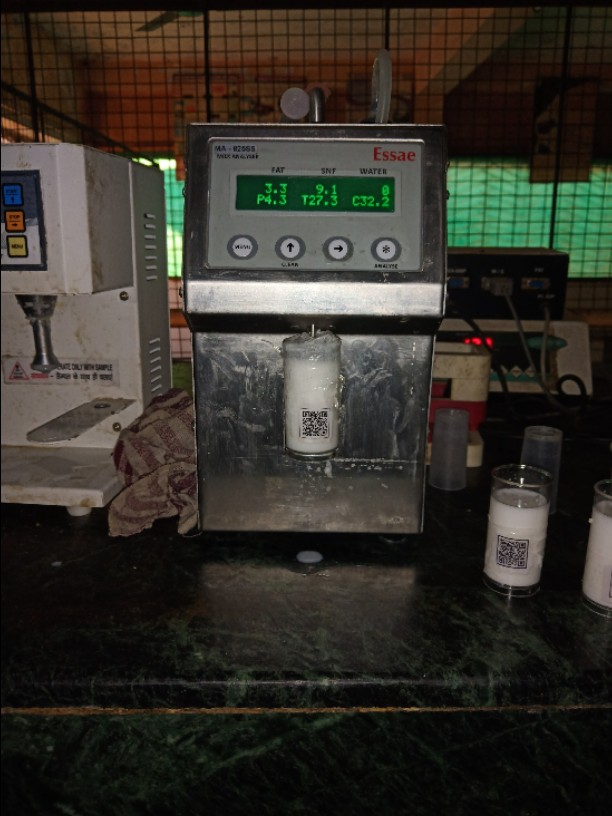lcd: (231, 172, 404, 220)
qr: (294, 400, 341, 446), (491, 530, 536, 578)
